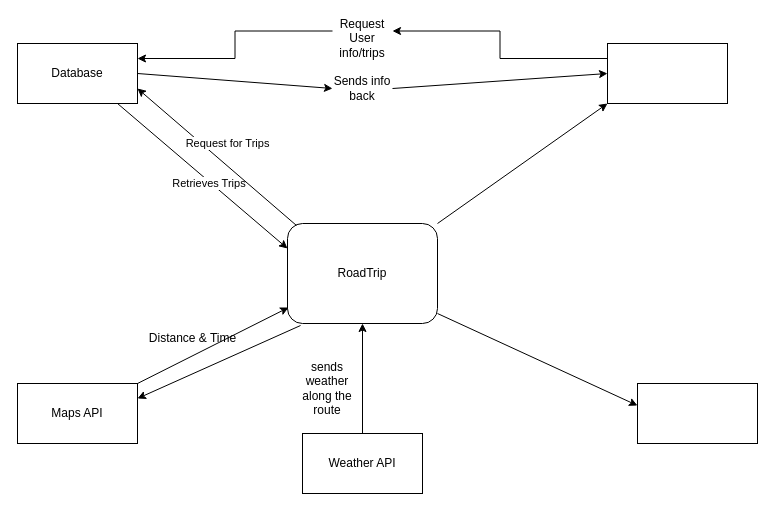
This 775x511 diagram has some shape labels left out. The shapes that lost their labels are listed below. From the top down, each one's centre as x and y in pixels, then its label:
At point 667,73: "Stats Page".
At point 697,413: "Cloud based document saves".
